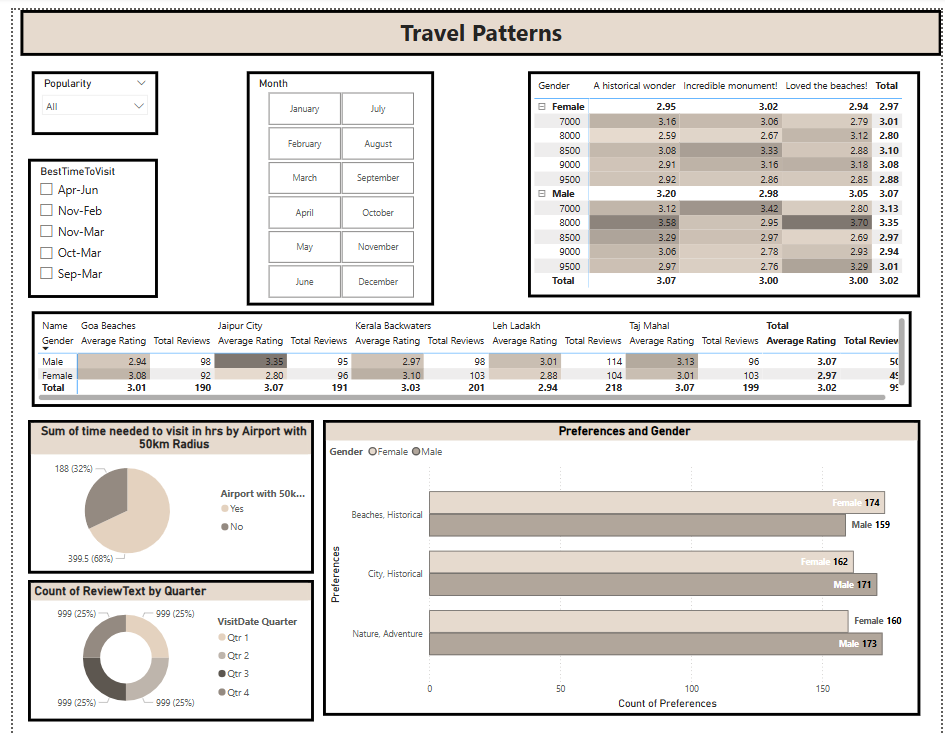

What the dashboard file says about the page in this screenshot:
{"tool":"powerbi","page":{"name":"Travel Patterns","canvas":[1280,1000],"ordinal":3},"visuals":[{"type":"textbox","box":[9.6,0,1270.7,63.1],"z":0},{"type":"pivotTable","fields":{"Rows":["Users.Gender"],"Columns":["Destinations_With_Cost.Name"],"Values":["Reviews.Average Rating","Reviews.Total Reviews"]},"box":[25,416,1213.5,132.3],"z":1000},{"type":"pivotTable","fields":{"Values":["Reviews.Average Rating"],"Rows":["Users.Gender","Destinations_With_Cost.EstimatedCost"],"Columns":["Reviews.ReviewText"]},"box":[710.4,84.6,541.2,312.3],"z":2000},{"type":"slicer","fields":{"Values":["Destinations_With_Cost.Popularity"]},"box":[25,84.6,174,88.2],"z":3000},{"type":"slicer","fields":{"Values":["UserHistory.VisitDate.Variation.Date Hierarchy.Month"]},"box":[321.8,84.6,258.7,323],"z":4000},{"type":"slicer","fields":{"Values":["Destinations_With_Cost.BestTimeToVisit"]},"box":[20.3,205,178.8,191.9],"z":5000},{"type":"clusteredBarChart","title":"Preferences and Gender","fields":{"Y":["CountNonNull(Users.Preferences)"],"Category":["Users.Preferences"],"Series":["Users.Gender"]},"box":[427.9,566.2,823.7,407.7],"z":6000},{"type":"pieChart","fields":{"Y":["Sum(Top Indian Places to Visit.time needed to visit in hrs)"],"Category":["Top Indian Places to Visit.Airport with 50km Radius"]},"box":[20.3,566.2,394.6,212.2],"z":7000},{"type":"donutChart","fields":{"Y":["CountNonNull(Reviews.ReviewText)"],"Category":["UserHistory.VisitDate.Variation.Date Hierarchy.Year","UserHistory.VisitDate.Variation.Date Hierarchy.Quarter"]},"box":[20.3,786.7,394.6,195.5],"z":8000}]}

Visuals, with their boxes in screenshot pixels (x1, y1, x2, y2), scaled from the page's 1280x1000 canvas onto the 945x734 screenshot:
textbox: box(7, 0, 944, 46)
pivotTable - Users.Gender x Destinations_With_Cost.Name: box(18, 305, 914, 402)
pivotTable - Reviews.Average Rating x Users.Gender: box(524, 62, 924, 291)
slicer - Destinations_With_Cost.Popularity: box(18, 62, 147, 127)
slicer - UserHistory.VisitDate.Variation.Date Hierarchy.Month: box(238, 62, 429, 299)
slicer - Destinations_With_Cost.BestTimeToVisit: box(15, 150, 147, 291)
"Preferences and Gender" clusteredBarChart: box(316, 416, 924, 715)
pieChart - Sum(Top Indian Places to Visit.time needed to visit in hrs) x Top Indian Places to Visit.Airport with 50km Radius: box(15, 416, 306, 571)
donutChart - CountNonNull(Reviews.ReviewText) x UserHistory.VisitDate.Variation.Date Hierarchy.Year: box(15, 577, 306, 721)
